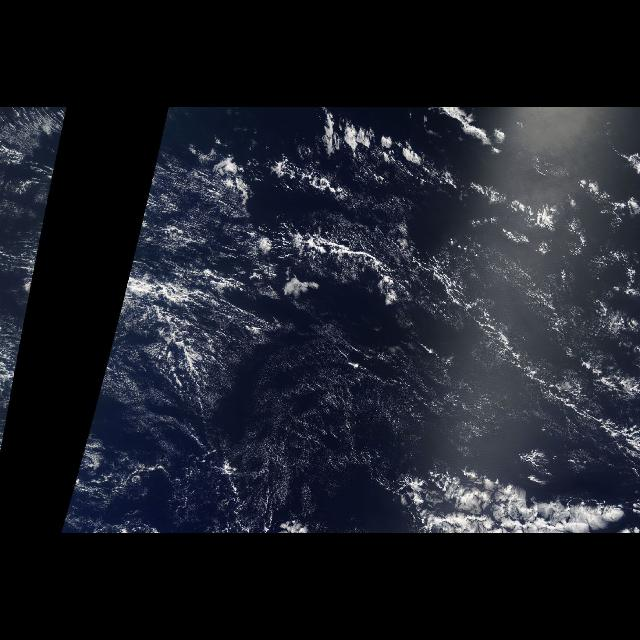Fish: (249, 186, 635, 459)
Sugar: (98, 110, 512, 480), (2, 110, 66, 392)
